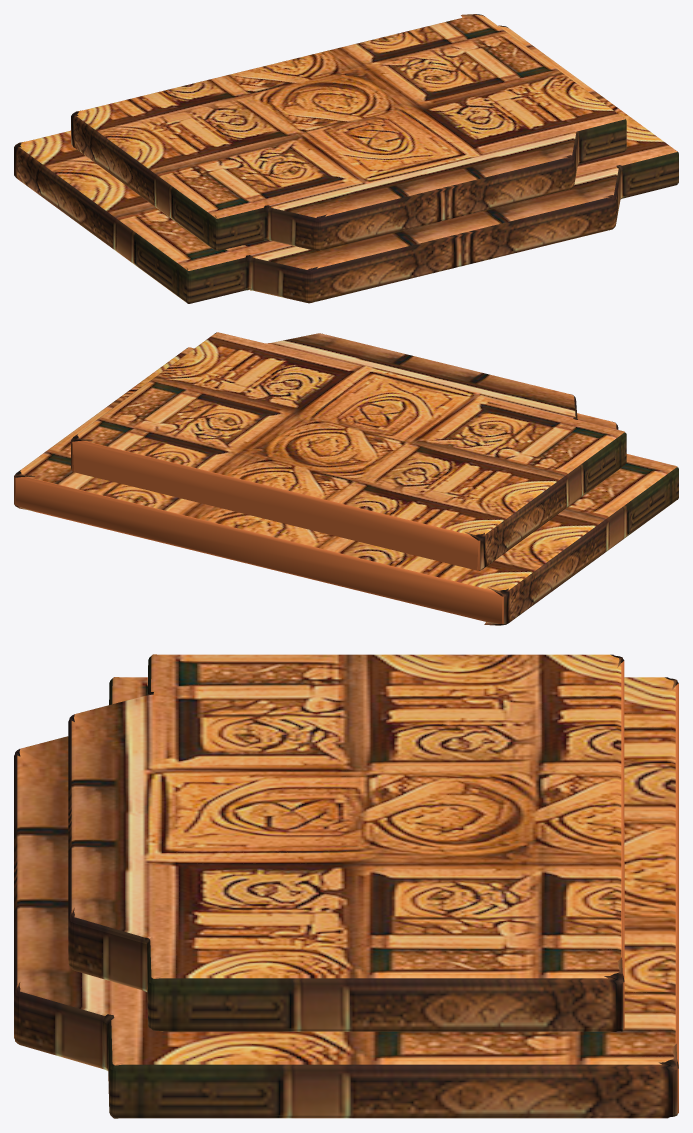
3 views of the same model, one above another, from view 1: azimuth 30°, elevation 25°; view 2: azimuth 150°, elevation 25°; view 3: azimuth 270°, elevation 25° (orthographic). The views are drawn at different scales.
Parts seen in each view (by area): view 1: StandBear; view 2: StandBear; view 3: StandBear.
Boxes of the visible parts, box(x1,y1,x2,y2) form: StandBear: box(14, 14, 678, 303); StandBear: box(14, 332, 678, 625); StandBear: box(14, 654, 678, 1118).
Size of the model in its own units: 3 by 0.4243 by 2.16.
Materials: 1 (1 with a texture image).
